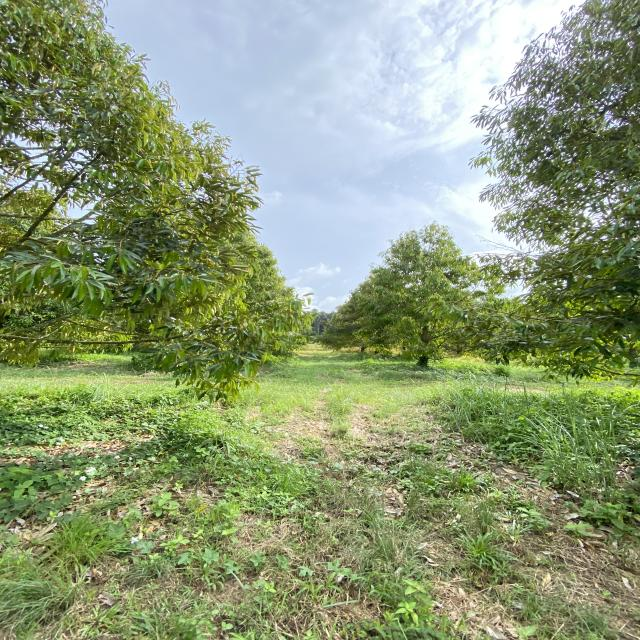Tree: (0, 0, 285, 416), (483, 0, 640, 414)
